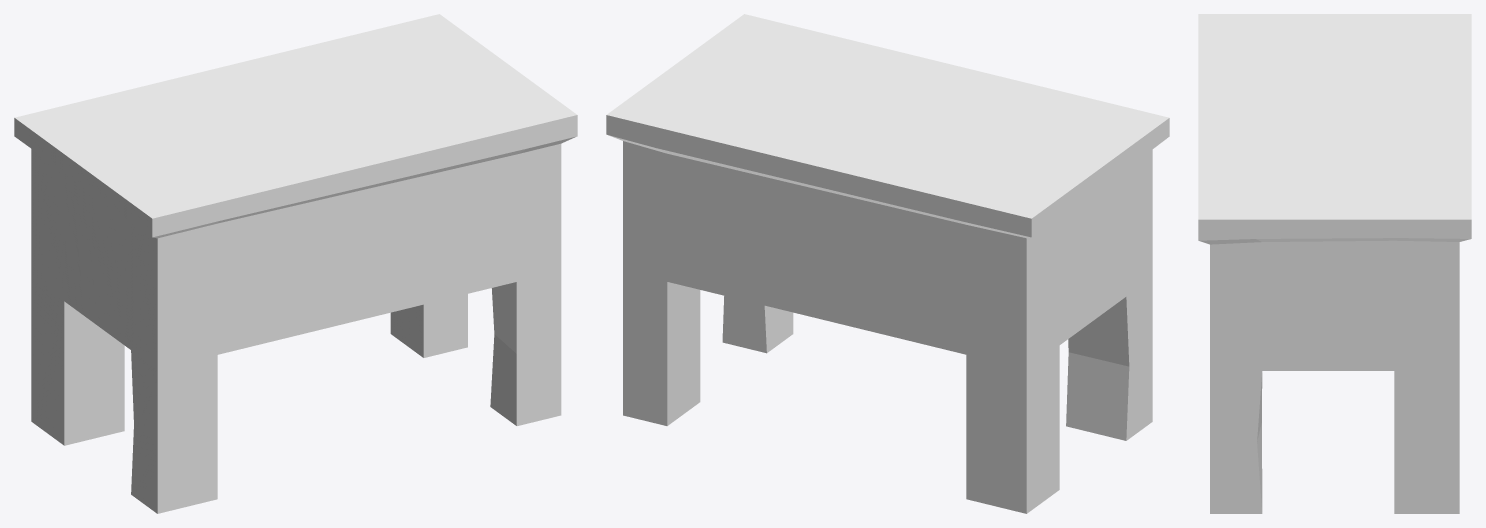
The model's file is CoffeeTable.fbx.
3 views of the same model, side by side, from view 1: azimuth 30°, elevation 25°; view 2: azimuth 150°, elevation 25°; view 3: azimuth 270°, elevation 25° (orthographic).
Parts seen in each view (by area): view 1: CoffeeTable; view 2: CoffeeTable; view 3: CoffeeTable.
Boxes of the visible parts, x1,y1,x2,y2 form: CoffeeTable: [14, 14, 577, 513]; CoffeeTable: [606, 14, 1169, 513]; CoffeeTable: [1198, 14, 1471, 513].
Size of the model in its own units: 59.99 by 40.75 by 33.71.
Materials: 1 (1 with a texture image).
